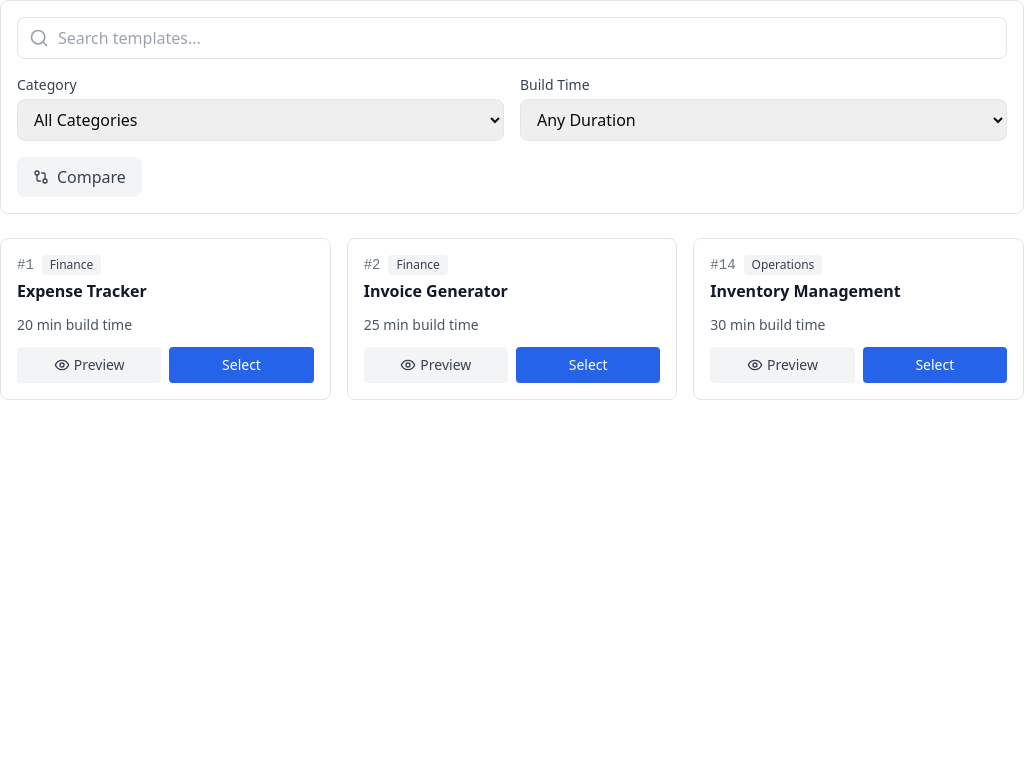
it: TemplateSelector › Quick Actions › should show template preview modal
Step 1. Click the button "Preview" below "20" → x=89, y=365, box [17,347,161,383]
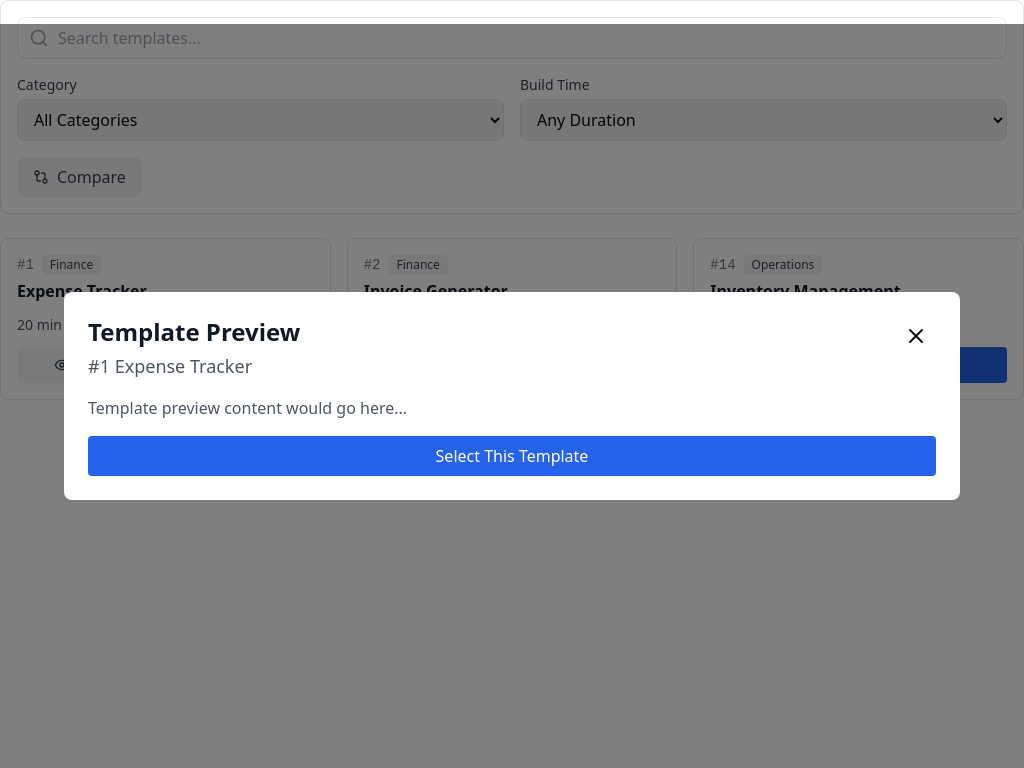
Now the button "Select This Template" is shown, box [88,436,936,476]
